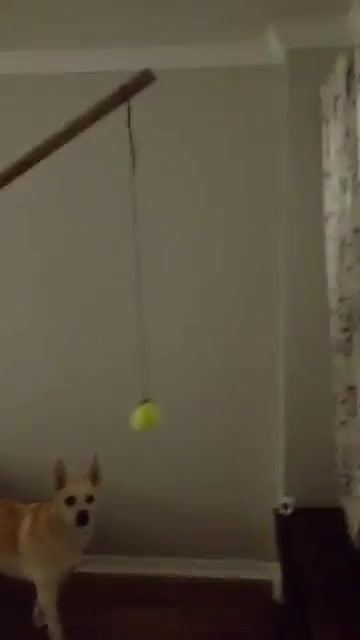tennis_ball: (129, 400, 165, 435)
